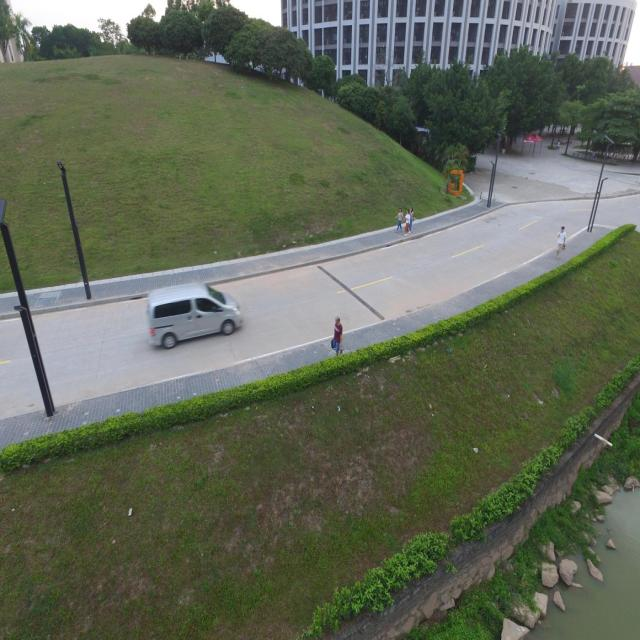car: (146, 282, 243, 349)
person: (332, 316, 343, 355), (555, 226, 566, 259), (396, 207, 404, 232)
